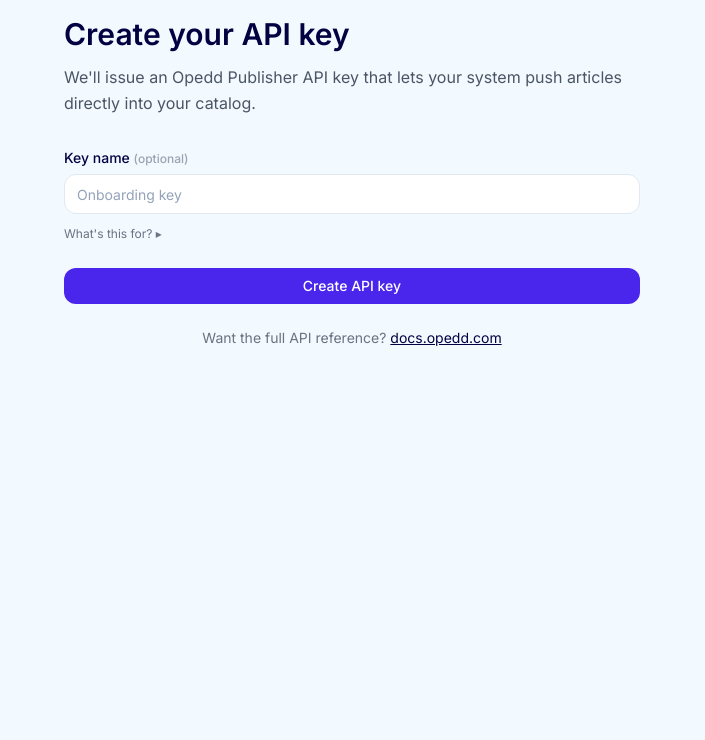
Scenario: Step2Api — submit → ACTIVE → SUCCESS happy path › on success, transitions to SUCCESS view with plaintext key reveal
The image size is (705, 740).
Step 1. Click the button "Create API key" → (352, 286), box [64,268,640,304]
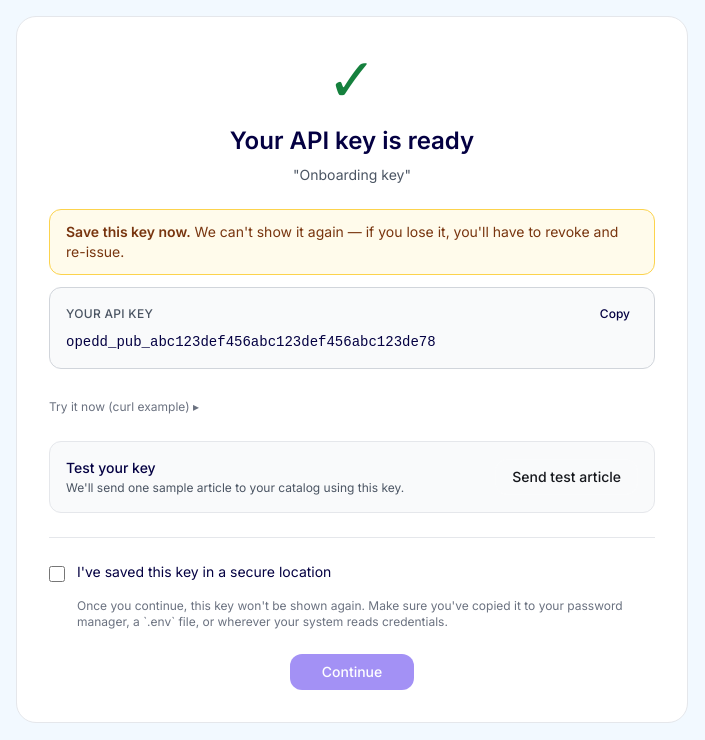
Check: the heading "Your API key is ready" is shown, box [230,126,474,155]
Check: the text "opedd_pub_abc123def456abc123def456abc123de78" is shown, box [66,334,436,350]
Check: the text "Save this key now." is shown, box [66,223,191,240]
